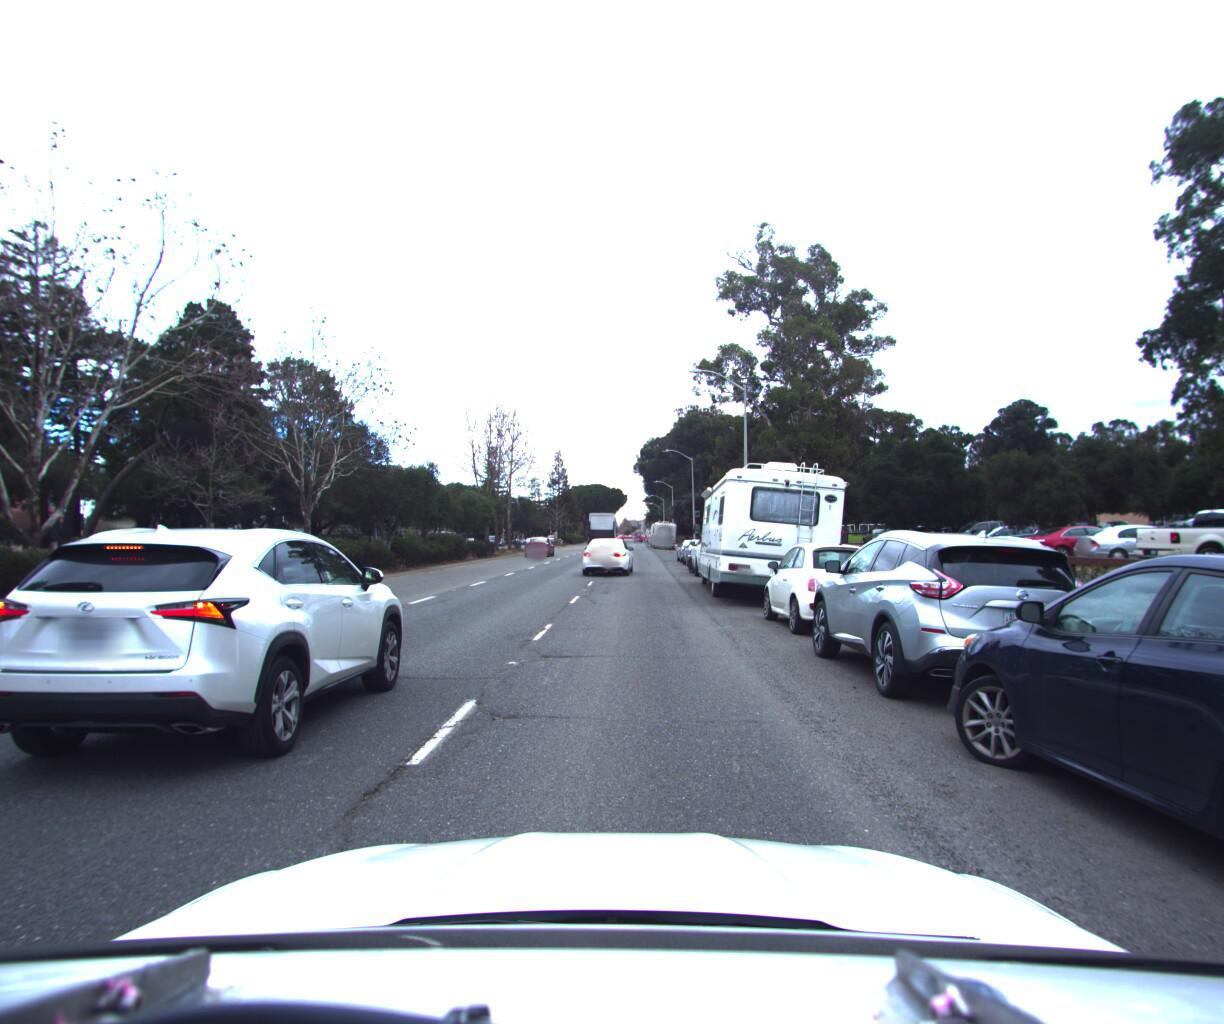car: (914, 534, 1224, 1024), (0, 518, 419, 776), (795, 510, 1128, 724), (756, 530, 899, 635), (686, 522, 750, 574), (576, 529, 632, 573), (679, 530, 722, 562), (674, 531, 710, 557), (523, 531, 554, 553)
other_vehicle: (691, 445, 861, 607)
truck: (588, 501, 621, 546)
